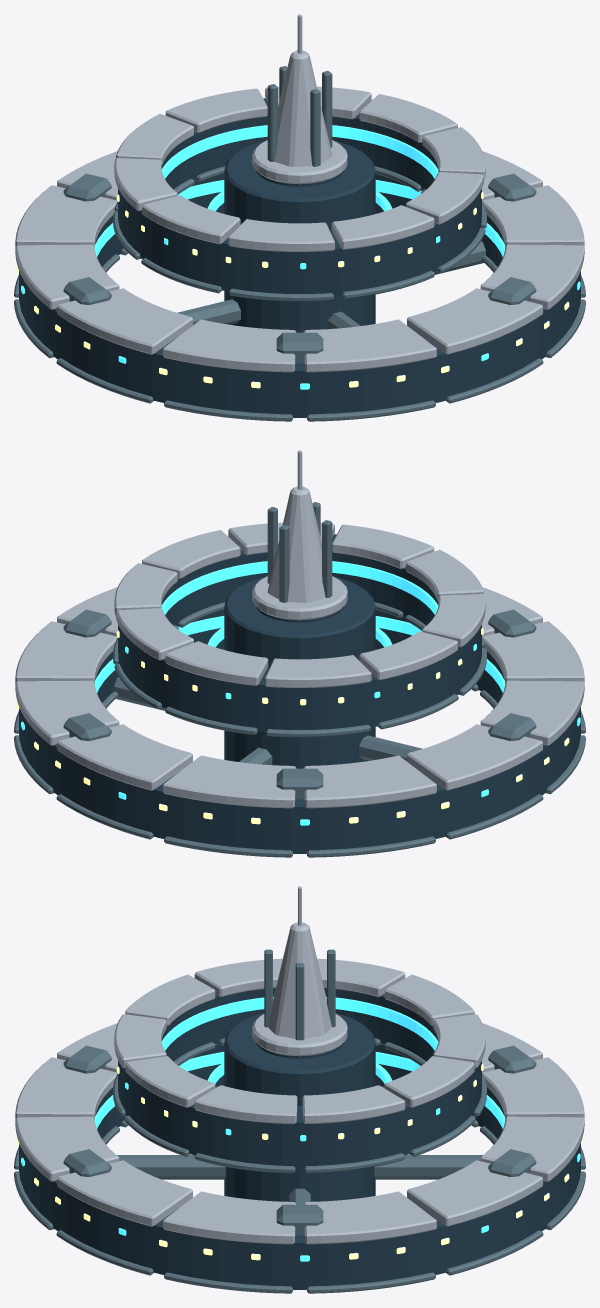
File: colony_ring_lv2.glb
3 views of the same model, one above another, from view 1: azimuth 30°, elevation 25°; view 2: azimuth 150°, elevation 25°; view 3: azimuth 270°, elevation 25° (orthographic).
Parts seen in each view (by area): view 1: Structure; view 2: Structure; view 3: Structure.
Boxes of the visible parts, box(x1,y1,x2,y2) form: Structure: box(14, 14, 585, 421); Structure: box(14, 450, 585, 857); Structure: box(14, 886, 585, 1293).
Size of the model in its own units: 7.93 by 4.84 by 7.93.
